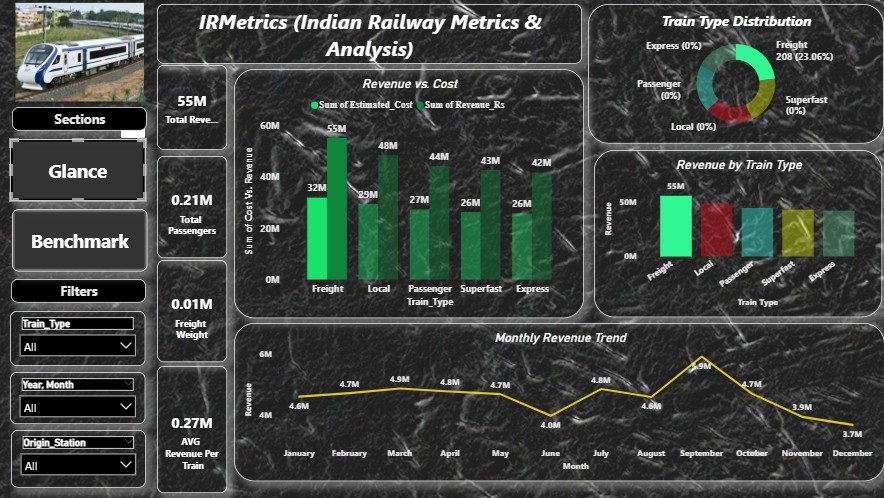

What the dashboard file says about the page in this screenshot:
{"tool":"powerbi","page":{"name":"Glance","canvas":[1280,720],"ordinal":0},"visuals":[{"type":"donutChart","title":" Train Type Distribution","fields":{"Y":["CountNonNull(Indian_Railways_Performance_Analysis.Train_Type)"],"Category":["Indian_Railways_Performance_Analysis.Train_Type"]},"box":[848.1,8.4,425.9,201.5],"z":0},{"type":"clusteredColumnChart","title":"Revenue by Train Type","fields":{"Category":["Indian_Railways_Performance_Analysis.Train_Type"],"Y":["Sum(Indian_Railways_Performance_Analysis.Revenue_Rs)"]},"box":[856.6,219.6,415,241.3],"z":1000},{"type":"lineChart","title":"Monthly Revenue Trend","fields":{"Y":["Sum(Indian_Railways_Performance_Analysis.Revenue_Rs)"],"Category":["Indian_Railways_Performance_Analysis.Month_Year.Variation.Date Hierarchy.Month"]},"box":[338.3,468.3,936.7,228.3],"z":2000},{"type":"clusteredColumnChart","title":"Revenue vs. Cost ","fields":{"Category":["Indian_Railways_Performance_Analysis.Train_Type"],"Y":["Sum(Indian_Railways_Performance_Analysis.Estimated_Cost)","Sum(Indian_Railways_Performance_Analysis.Revenue_Rs)"]},"box":[338.4,102.2,504,358.6],"z":3000},{"type":"textbox","title":"IRMetrics (Indian Railway Metrics & Analysis)","box":[227.5,8.6,612,86.4],"z":4000},{"type":"card","fields":{"Values":["Indian_Railways_Performance_Analysis.Total Revenue"]},"box":[227.5,96.5,100.8,122.4],"z":5000},{"type":"card","fields":{"Values":["Indian_Railways_Performance_Analysis.Total Passengers"]},"box":[227.5,227.5,100.8,146.9],"z":6000},{"type":"card","fields":{"Values":["Indian_Railways_Performance_Analysis.AVG Revenue Per Train"]},"box":[227.5,529.9,100.8,182.9],"z":7000},{"type":"card","fields":{"Values":["Indian_Railways_Performance_Analysis.Freight Weight"]},"box":[227.5,377.3,100.8,146.9],"z":8000},{"type":"slicer","fields":{"Values":["Indian_Railways_Performance_Analysis.Train_Type"]},"box":[16.2,451.2,195,78.8],"z":9000},{"type":"slicer","fields":{"Values":["Indian_Railways_Performance_Analysis.Month_Year.Variation.Date Hierarchy.Year","Indian_Railways_Performance_Analysis.Month_Year.Variation.Date Hierarchy.Month"]},"box":[16.2,538.8,195,75],"z":10000},{"type":"slicer","fields":{"Values":["Indian_Railways_Performance_Analysis.Origin_Station"]},"box":[17.5,622.5,193.8,82.5],"z":11000},{"type":"shape","title":"Filters","box":[17.5,405,193.8,33.8],"z":12000},{"type":"shape","box":[18.8,303.8,195,90],"z":13000},{"type":"shape","box":[16.2,202.5,195,90],"z":14000},{"type":"shape","title":"Sections","box":[18.8,156.2,193.8,33.8],"z":15000},{"type":"image","box":[18.3,0,195,156.7],"z":16000}]}

Visuals, with their boxes in screenshot pixels (x1, y1, x2, y2), scaled from the page's 1280x720 canvas onto the 884x498 screenshot:
" Train Type Distribution" donutChart: [left=586, top=6, right=880, bottom=145]
"Revenue by Train Type" clusteredColumnChart: [left=592, top=152, right=878, bottom=319]
"Monthly Revenue Trend" lineChart: [left=234, top=324, right=881, bottom=482]
"Revenue vs. Cost " clusteredColumnChart: [left=234, top=71, right=582, bottom=319]
"IRMetrics (Indian Railway Metrics & Analysis)" textbox: [left=157, top=6, right=580, bottom=66]
card - Indian_Railways_Performance_Analysis.Total Revenue: [left=157, top=67, right=227, bottom=151]
card - Indian_Railways_Performance_Analysis.Total Passengers: [left=157, top=157, right=227, bottom=259]
card - Indian_Railways_Performance_Analysis.AVG Revenue Per Train: [left=157, top=367, right=227, bottom=493]
card - Indian_Railways_Performance_Analysis.Freight Weight: [left=157, top=261, right=227, bottom=363]
slicer - Indian_Railways_Performance_Analysis.Train_Type: [left=11, top=312, right=146, bottom=367]
slicer - Indian_Railways_Performance_Analysis.Month_Year.Variation.Date Hierarchy.Year x Indian_Railways_Performance_Analysis.Month_Year.Variation.Date Hierarchy.Month: [left=11, top=373, right=146, bottom=425]
slicer - Indian_Railways_Performance_Analysis.Origin_Station: [left=12, top=431, right=146, bottom=488]
"Filters" shape: [left=12, top=280, right=146, bottom=304]
shape: [left=13, top=210, right=148, bottom=272]
shape: [left=11, top=140, right=146, bottom=202]
"Sections" shape: [left=13, top=108, right=147, bottom=131]
image: [left=13, top=0, right=147, bottom=108]
